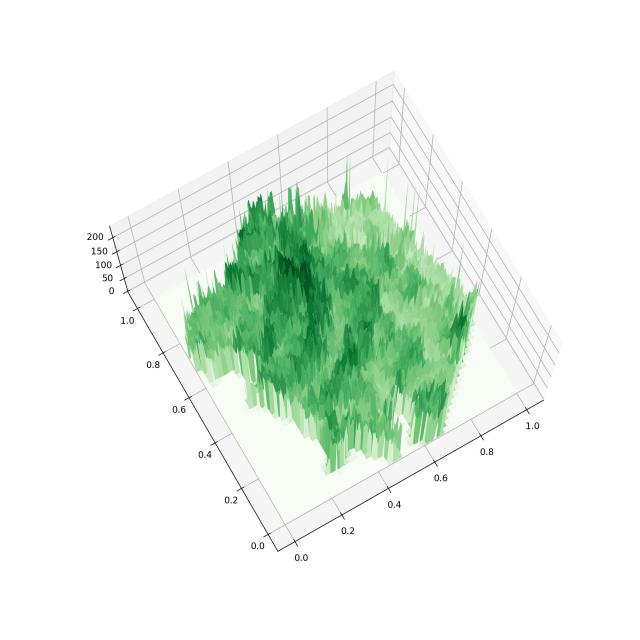fir: (56, 29, 590, 582)
